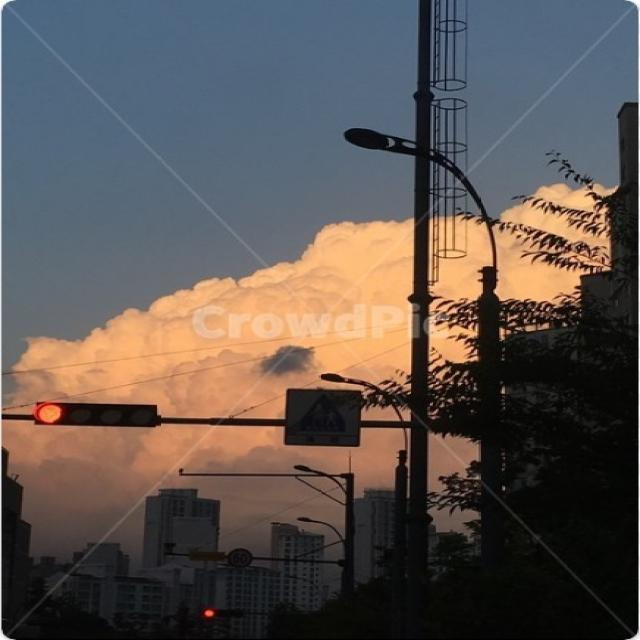Red Light: (30, 396, 71, 431), (203, 610, 217, 618)
